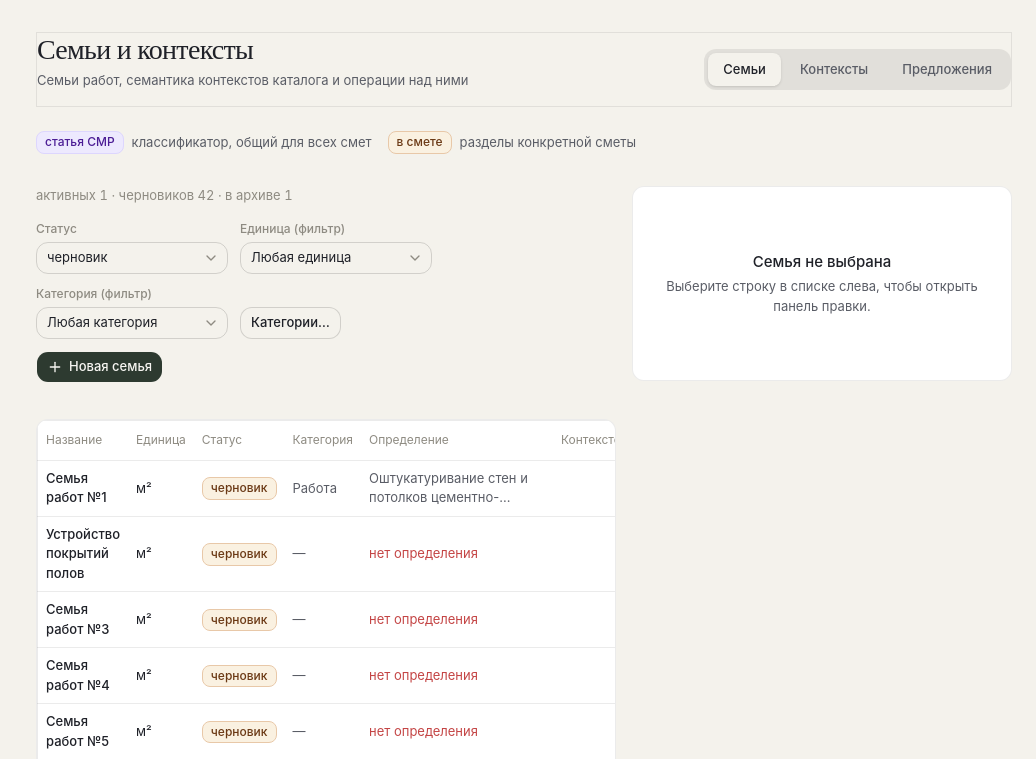
Test case: FamiliesPage: вход по адресу ?context= › выбор, снятый фильтром, убирает context из адреса
Step 1. Click the tab "Контексты" → (834, 69), box [785,53,883,86]
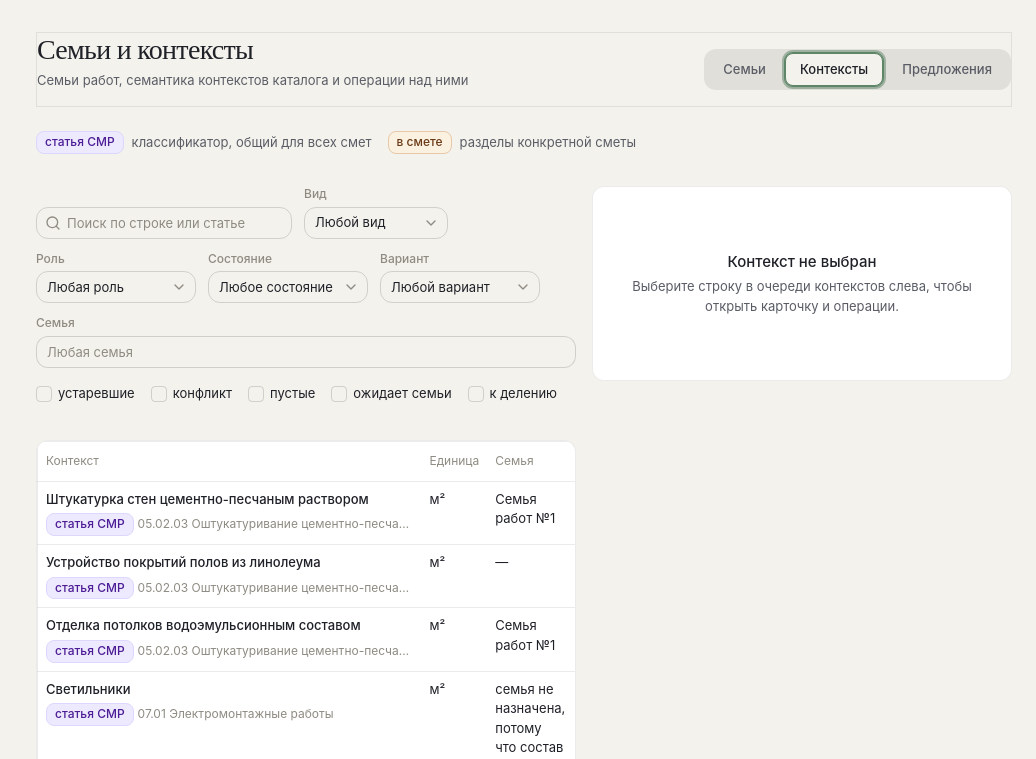
Step 2. Click the text "Штукатурка стен цементно-песчаным раствором" → (207, 500), box [46,490,369,509]
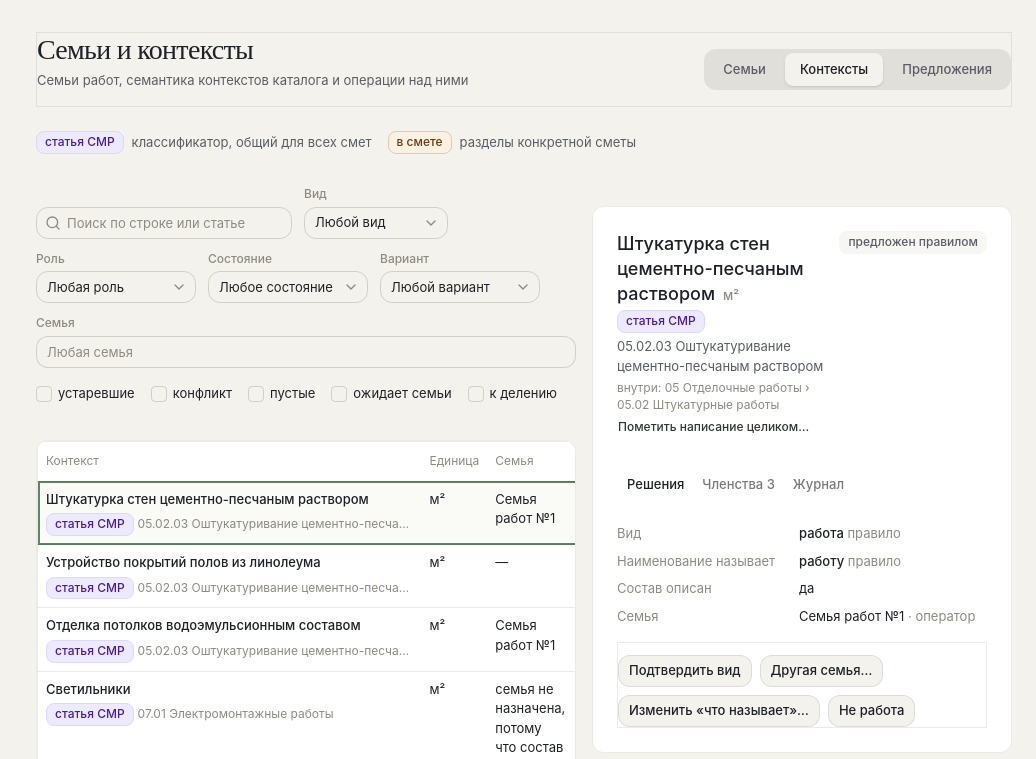
Step 3. Type "нет такой работы" into the field named "Поиск по написанию каталога" → (176, 223), box [61,205,291,241]
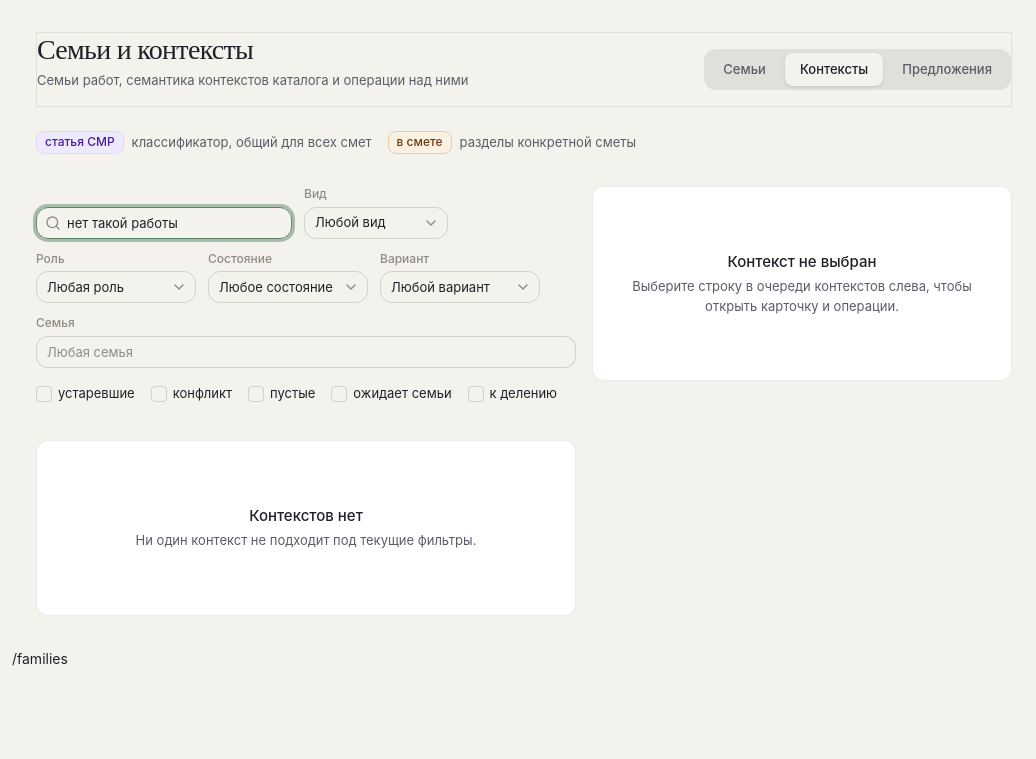
expect the text with test id "loc" reads "/families": met, box [12,650,68,667]
